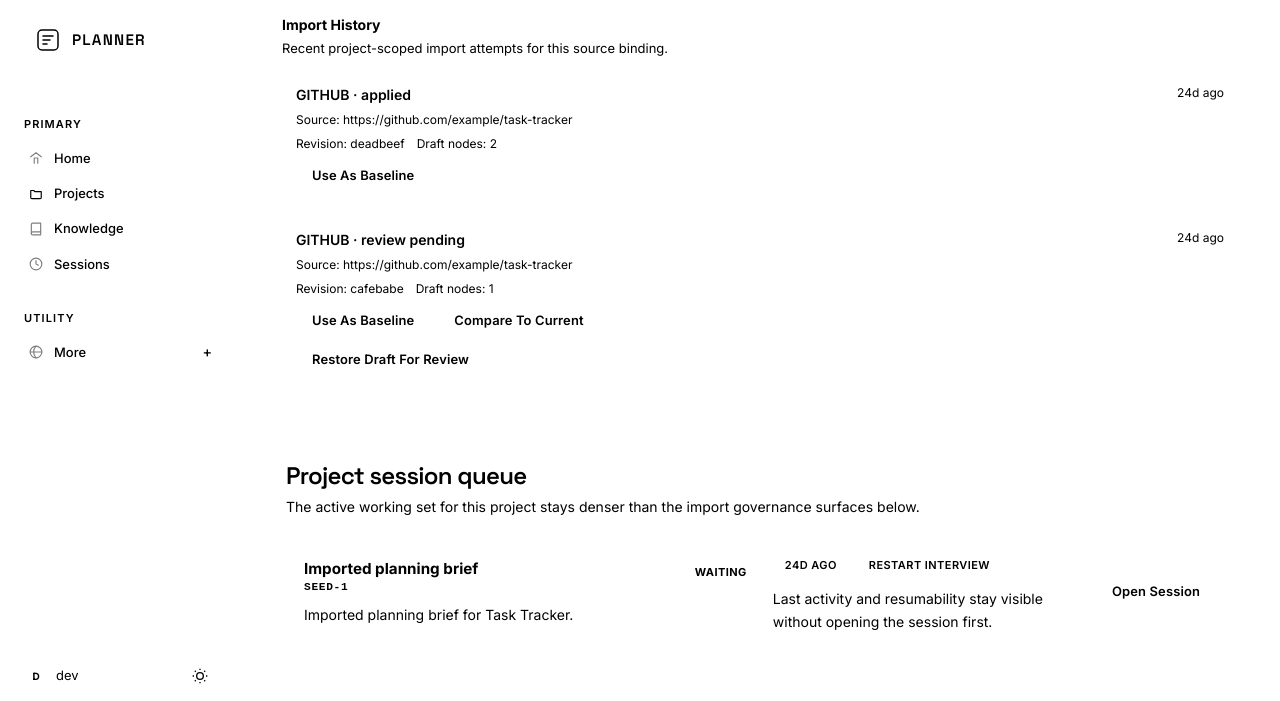
Test: ProjectSessionsPage import review › reopens an older historical review draft into the current review slot
(page scrolled)
Click the button "Restore Draft For Review": (390, 360) [296,343,485,377]
(page scrolled)
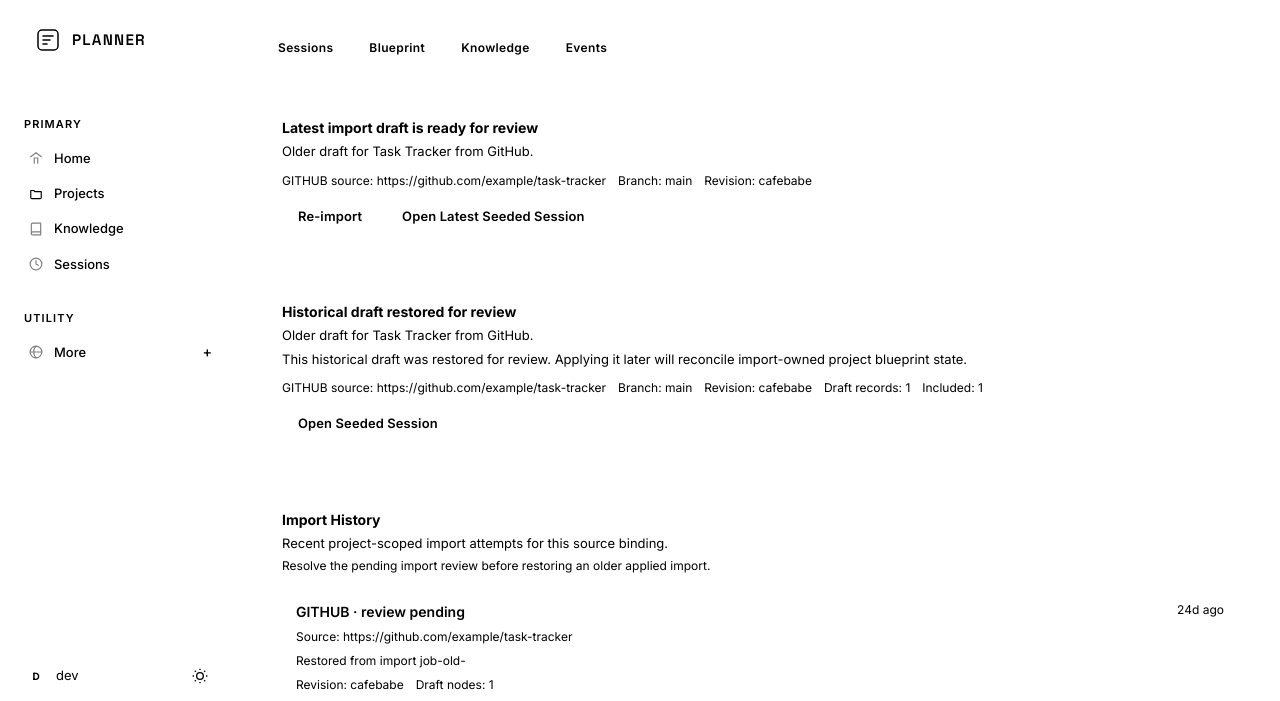
Expected: the text "Historical draft restored for review" is shown, [282,303,516,320]
Expected: the text "This historical draft was restored for review" is shown, [282,351,967,367]
